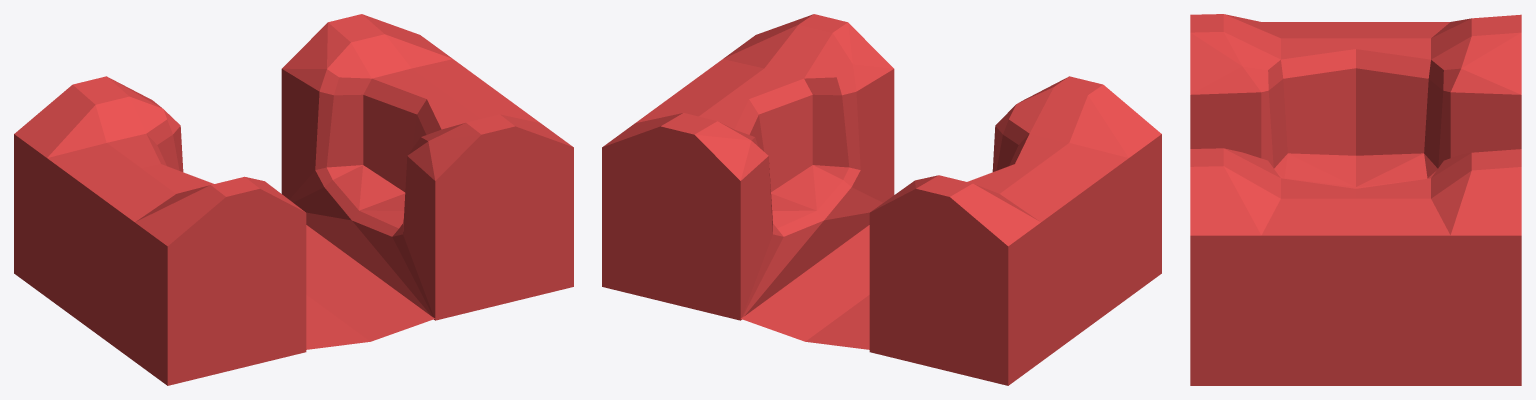
File: Ground_Firebay_Double_COL.fbx
3 views of the same model, side by side, from view 1: azimuth 30°, elevation 25°; view 2: azimuth 150°, elevation 25°; view 3: azimuth 270°, elevation 25° (orthographic). The views are drawn at different scales.
Parts seen in each view (by area): view 1: Ground_Firebay_Double_COL; view 2: Ground_Firebay_Double_COL; view 3: Ground_Firebay_Double_COL.
Part boxes in pixels (x1,y1,x2,y2): Ground_Firebay_Double_COL: [14, 14, 573, 385]; Ground_Firebay_Double_COL: [602, 14, 1161, 385]; Ground_Firebay_Double_COL: [1190, 14, 1521, 385].
Size of the model in its own units: 611 by 260 by 400.
